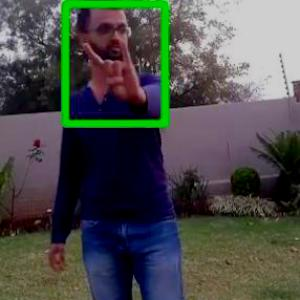takeoff-hand: (74, 37, 145, 106)
